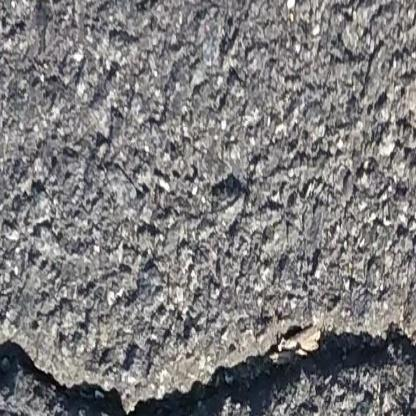Cracks: (0, 320, 416, 416)
